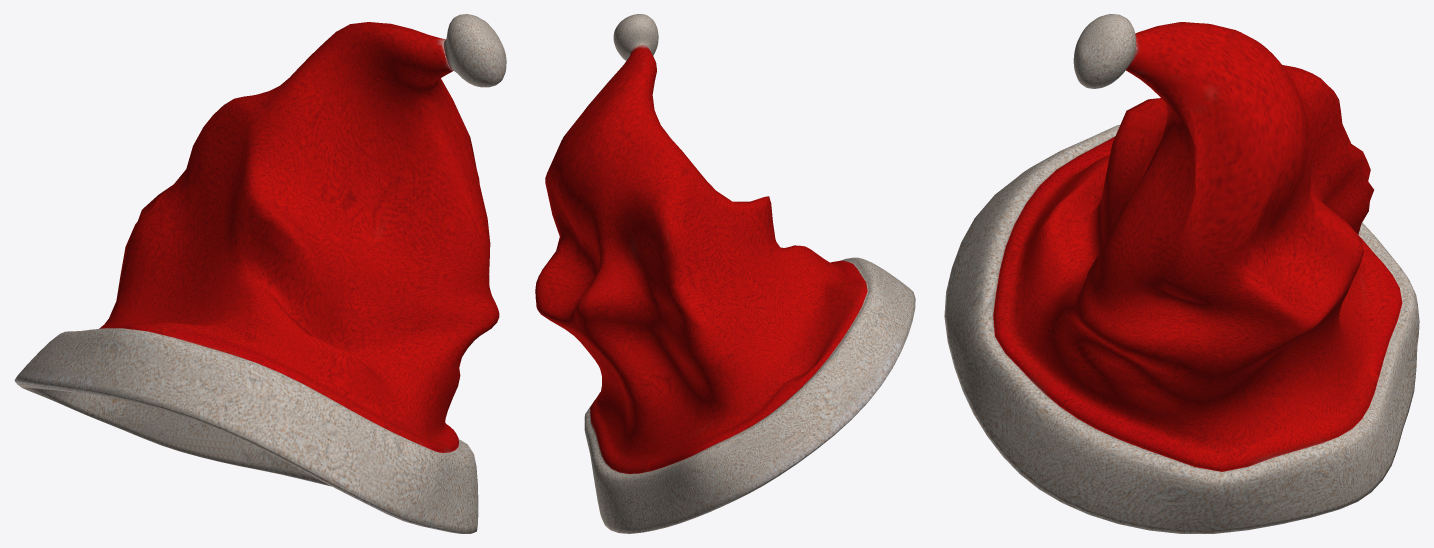
The model's file is santa_hat.fbx.
3 renders of one model, left to right at view 1: azimuth 30°, elevation 25°; view 2: azimuth 150°, elevation 25°; view 3: azimuth 270°, elevation 25°, orthographic. The views are drawn at different scales.
Parts seen in each view (by area): view 1: SantaHat:Cone; view 2: SantaHat:Cone; view 3: SantaHat:Cone.
Boxes of the visible parts, x1,y1,x2,y2 form: SantaHat:Cone: (14,14,506,533); SantaHat:Cone: (535,14,915,533); SantaHat:Cone: (944,14,1419,533).
Bounding box in the file's own units: 0.6864 × 0.8424 × 0.6874.
